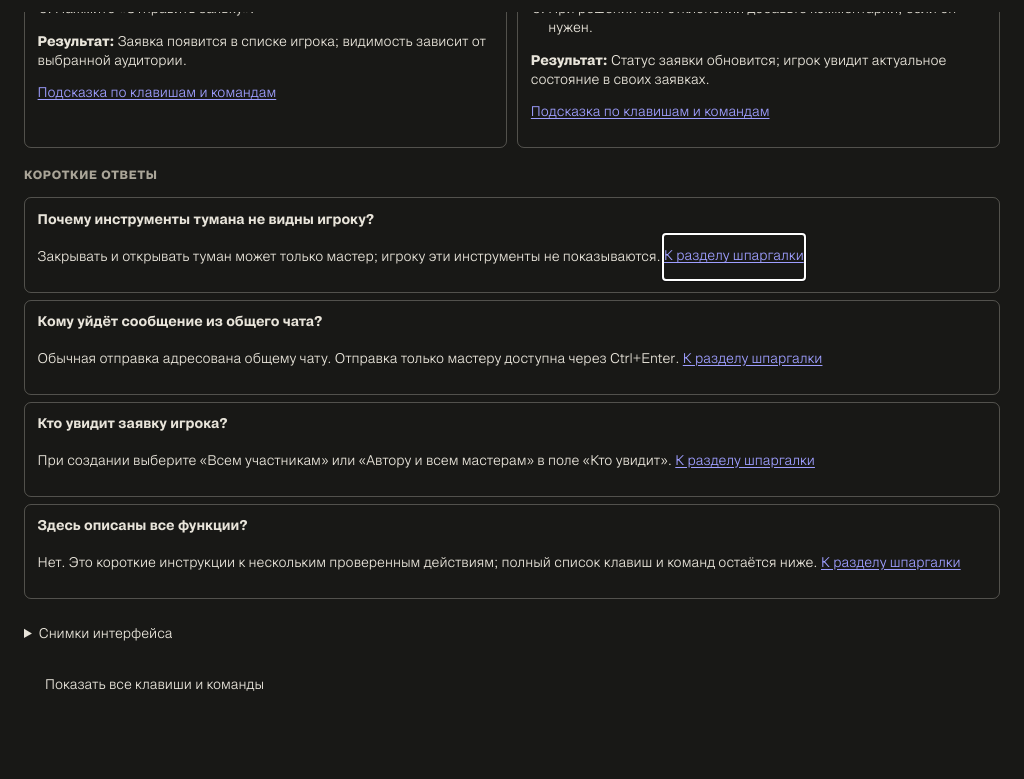
Test: landing guide › keeps guide procedures keyboard reachable and preserves the existing guide entry points
(page scrolled)
Click the 1st link "К разделу шпаргалки". click: [734, 257]
box: [664,250,804,263]
(page scrolled)
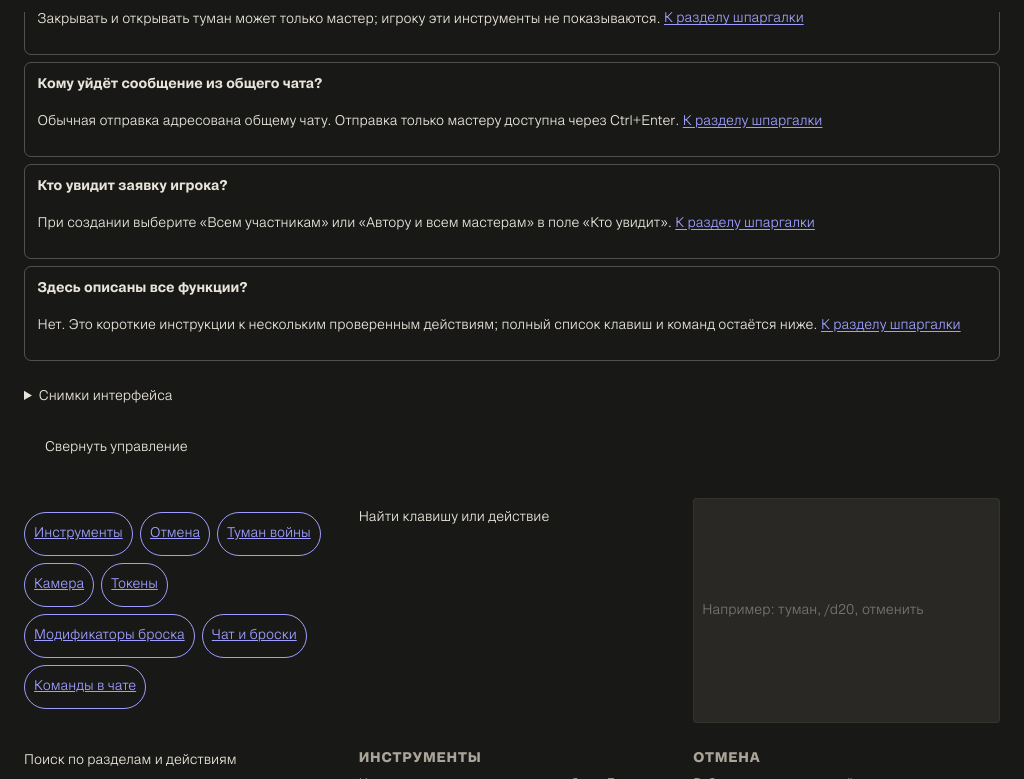
Check: the button "Свернуть управление" is shown, box [24,424,209,470]
